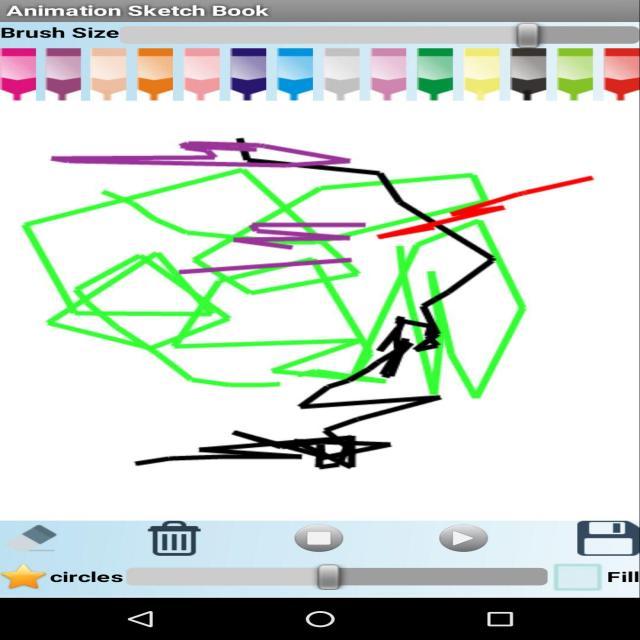button: (2, 44, 640, 112), (137, 520, 227, 564), (435, 520, 518, 565), (560, 520, 640, 564), (6, 519, 84, 557), (281, 521, 360, 558), (304, 562, 364, 592), (544, 563, 606, 592), (502, 22, 562, 51)
icon: (2, 564, 50, 590)
image: (8, 113, 619, 497)
text: (6, 4, 275, 22), (0, 21, 123, 41), (52, 564, 135, 589), (610, 564, 640, 592)
